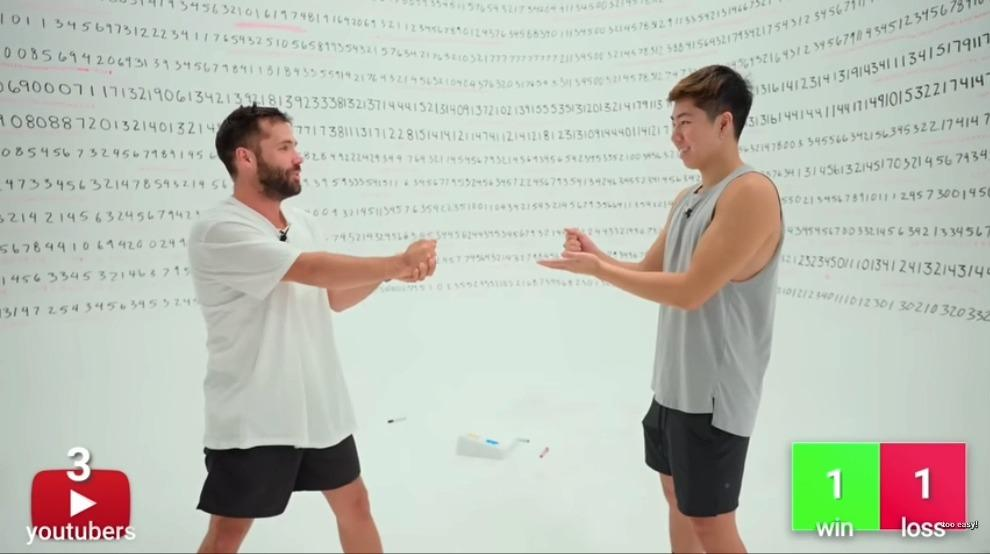Rock: (400, 236, 438, 279), (562, 224, 591, 253)
